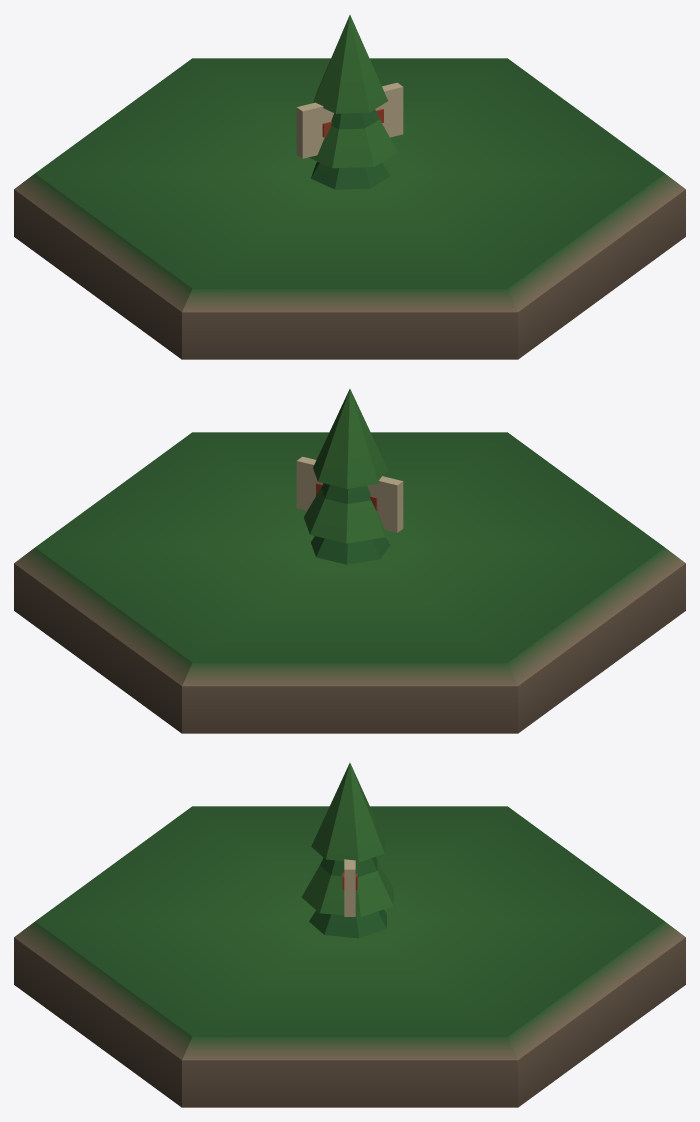
The model's file is kit.glb.
The picture shows the model from 3 angles, top to bottom: view 1: azimuth 30°, elevation 25°; view 2: azimuth 150°, elevation 25°; view 3: azimuth 270°, elevation 25°; orthographic projection.
Visible parts, largest first — view 1: tile_forest, prop_tree_2, dock_sign, prop_tree_1; view 2: tile_forest, prop_tree_2, dock_sign, prop_tree_1; view 3: tile_forest, prop_tree_2, prop_tree_1, dock_sign.
Part boxes in pixels (x1,y1,x2,y2): tile_forest: (14,58,685,359); prop_tree_2: (309,15,397,168); dock_sign: (296,82,403,158); prop_tree_1: (311,109,390,189); tile_forest: (14,432,685,733); prop_tree_2: (303,389,389,543); dock_sign: (296,456,403,532); prop_tree_1: (311,483,390,564); tile_forest: (14,806,685,1107); prop_tree_2: (301,763,393,917); prop_tree_1: (309,857,386,938); dock_sign: (342,859,357,916).
Size of the model in its own units: 1 by 0.4315 by 1.15.
